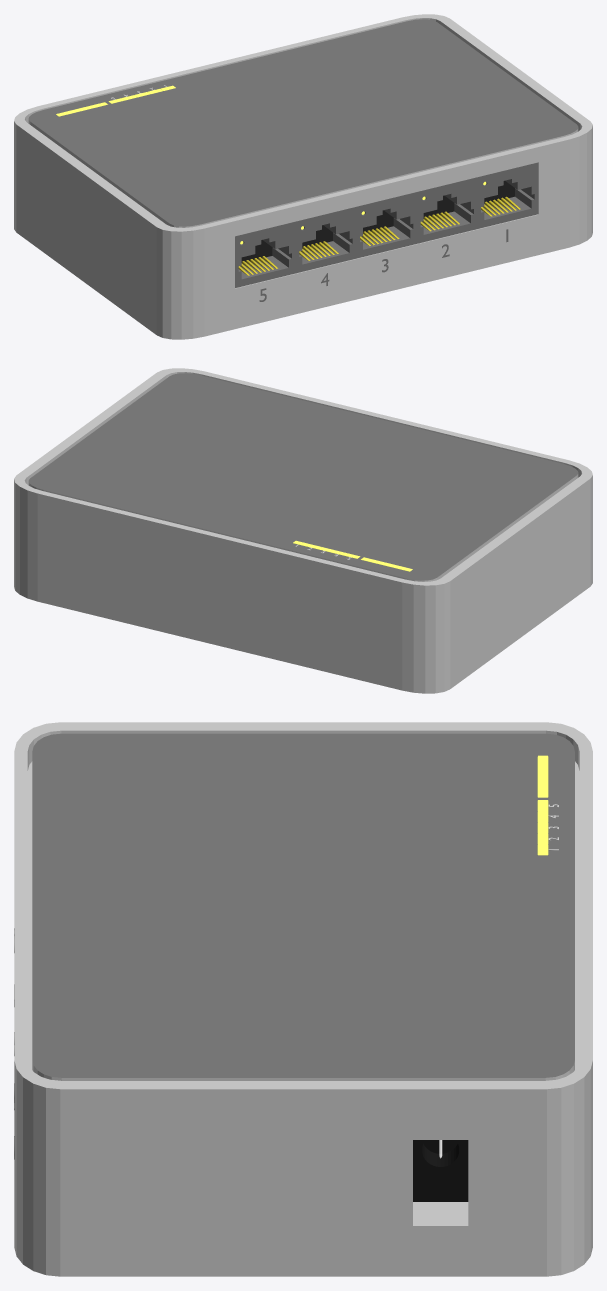
3 views of the same model, one above another, from view 1: azimuth 30°, elevation 25°; view 2: azimuth 150°, elevation 25°; view 3: azimuth 270°, elevation 25° (orthographic). The views are drawn at different scales.
Visible parts, largest first — view 1: Plane.005, Plane.009, Plane.011; view 2: Plane.005; view 3: Plane.005.
Part boxes in pixels (<box>): Plane.005: <box>14,14,592,339</box>; Plane.009: <box>204,139,569,336</box>; Plane.011: <box>238,196,522,276</box>; Plane.005: <box>14,368,592,693</box>; Plane.005: <box>14,722,592,1276</box>.
Size of the model in its own units: 1 by 0.2402 by 0.6698.
